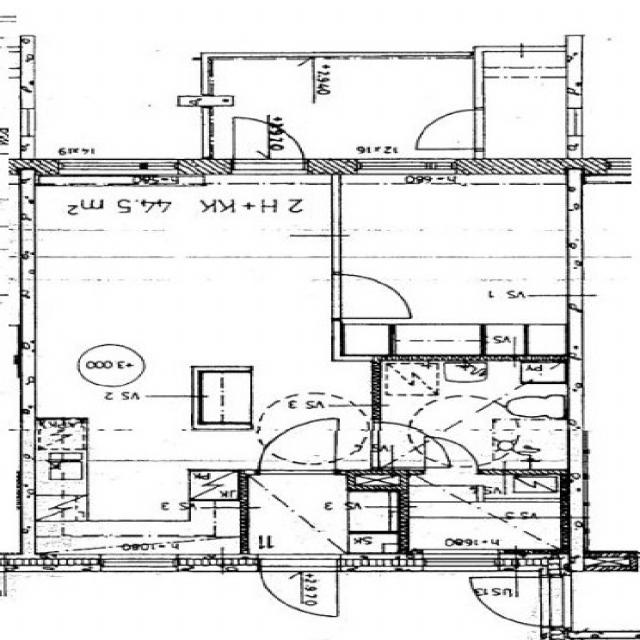door: (466, 578, 572, 627), (260, 554, 338, 620), (233, 114, 305, 174), (258, 420, 336, 474), (372, 422, 452, 467), (332, 274, 410, 318), (416, 111, 485, 149), (427, 436, 479, 475)
